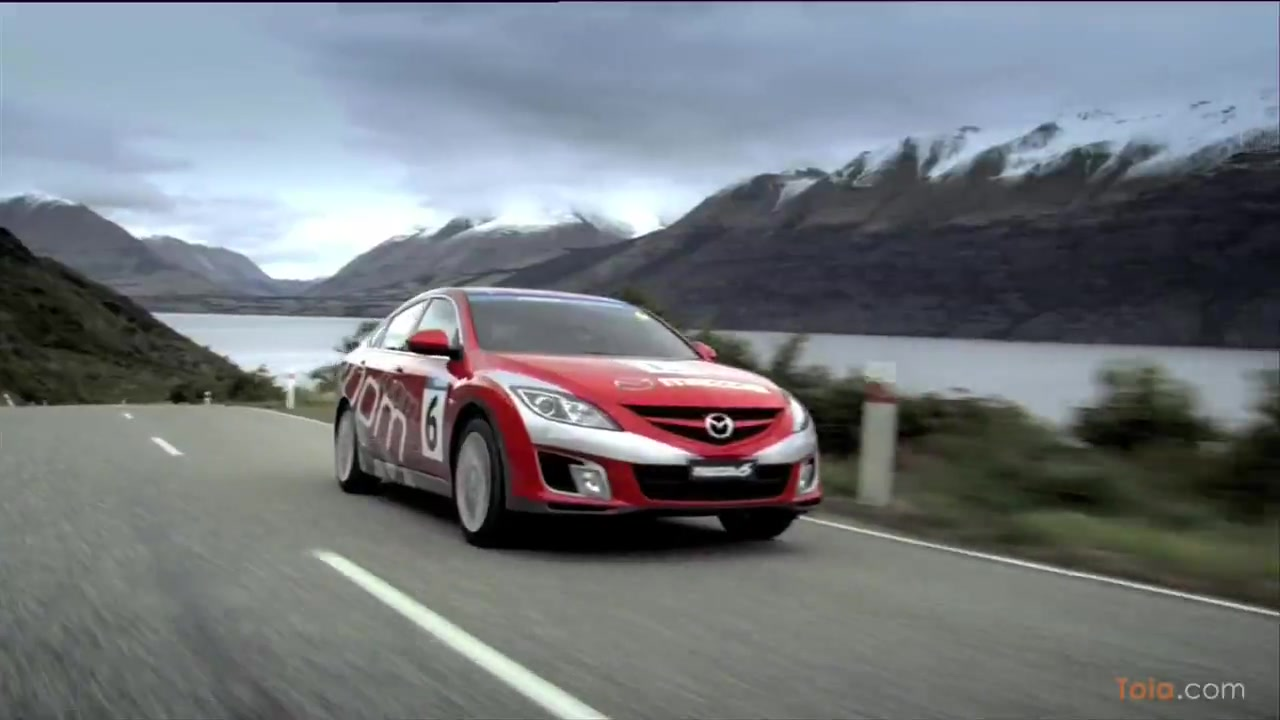car: (333, 284, 825, 547)
